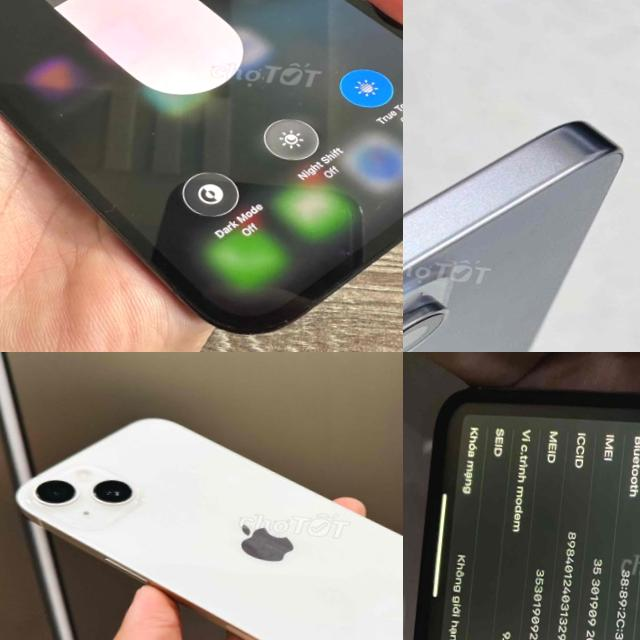gen_12_13: (0, 0, 403, 352)
gen_14: (0, 391, 403, 640)
gen_15: (403, 57, 627, 352)
gen_x_xs: (413, 387, 640, 640)
